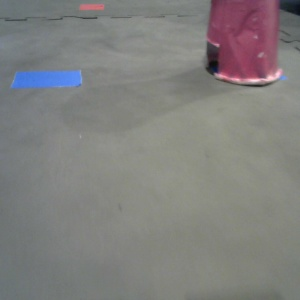right: (219, 1, 296, 70)
